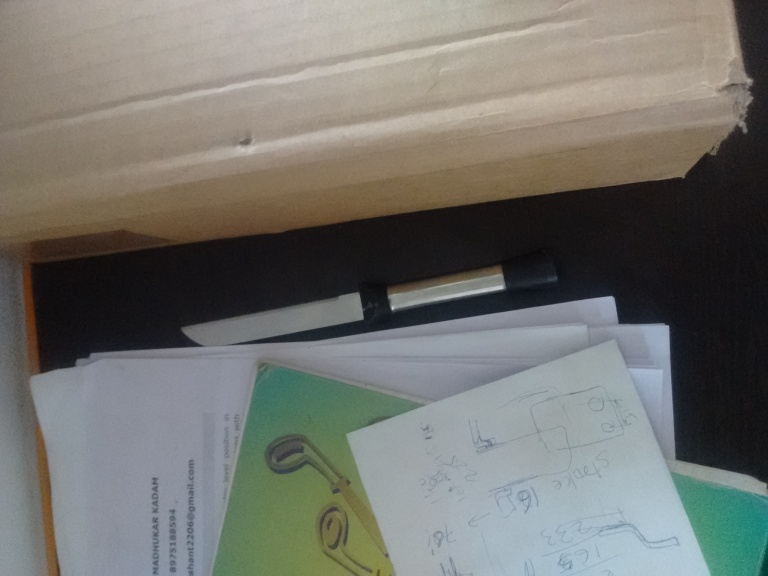knife: (179, 257, 561, 348)
